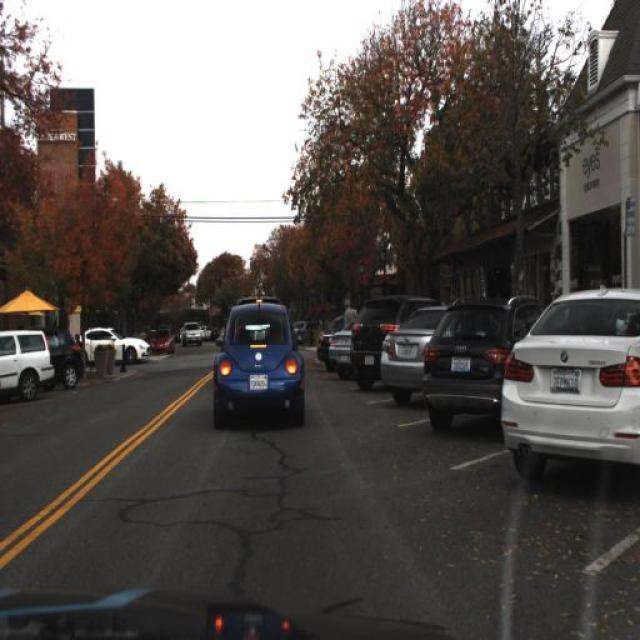car: (501, 280, 639, 478), (421, 291, 540, 431), (211, 301, 309, 433), (378, 302, 452, 411), (350, 294, 422, 390), (0, 328, 55, 403), (76, 323, 150, 365), (49, 324, 83, 394), (327, 320, 359, 376), (148, 322, 176, 358), (178, 317, 206, 348)
